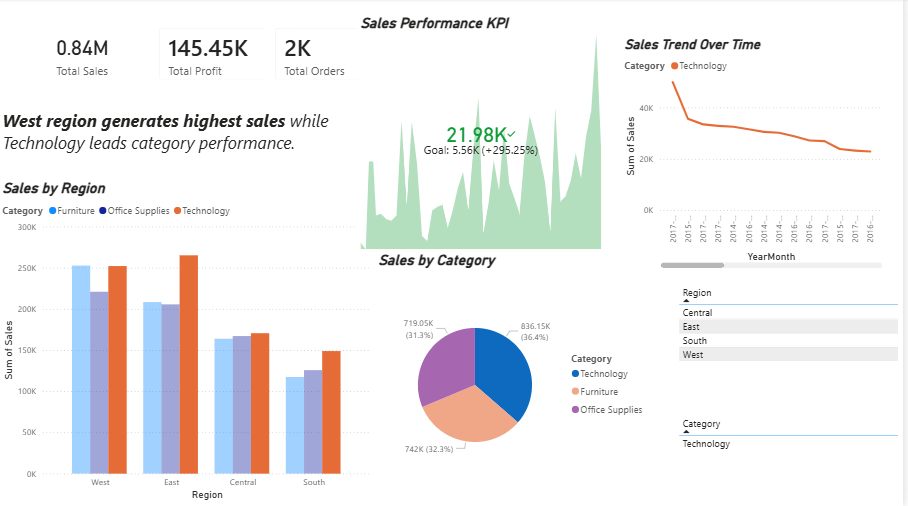

Layout of this report page (visuals, bound fields, positions):
{"tool":"powerbi","page":{"name":"Page 1","canvas":[1280,720],"ordinal":0},"visuals":[{"type":"clusteredColumnChart","title":"Sales by Region","fields":{"Category":["Sample - Superstore.Region"],"Y":["Sum(Sample - Superstore.Sales)"],"Series":["Sample - Superstore.Category"]},"box":[0,257.4,532.7,459.4],"z":0},{"type":"card","fields":{"Values":["Sample - Superstore.Total Sales"]},"box":[14.3,25,207.4,107.3],"z":1000},{"type":"cardVisual","fields":{"Data":["Sample - Superstore.Total Profit"]},"box":[209.2,25,216.3,107.3],"z":2000},{"type":"cardVisual","fields":{"Data":["Sample - Superstore.Total Orders"]},"box":[373.6,25,266.4,107.3],"z":3000},{"type":"pieChart","title":"Sales by Category","fields":{"Category":["Sample - Superstore.Category"],"Y":["Sum(Sample - Superstore.Sales)"]},"box":[532.7,359.3,393.3,354],"z":4000},{"type":"lineChart","title":"Sales Trend Over Time","fields":{"Category":["Sample - Superstore.YearMonth"],"Y":["Sum(Sample - Superstore.Sales)"],"Series":["Sample - Superstore.Category"]},"box":[881.3,53.6,375.4,334.3],"z":5000},{"type":"tableEx","fields":{"Values":["Sample - Superstore.Region"]},"box":[958.2,402.2,321.8,171.6],"z":6000},{"type":"tableEx","fields":{"Values":["Sample - Superstore.Category"]},"box":[958.2,588.2,321.8,132.3],"z":7000},{"type":"kpi","title":"Sales Performance KPI","fields":{"Indicator":["Sum(Sample - Superstore.Sales)"],"TrendLine":["Sample - Superstore.YearMonth"],"Goal":["Sum(Sample - Superstore.Profit)"]},"box":[506.9,24.5,351.4,337],"z":7001},{"type":"textbox","box":[0,152,552.4,80.4],"z":7002}]}

Visuals, with their boxes in screenshot pixels (x1, y1, x2, y2), scaled from the page's 1280x720 canvas onto the 908x506 screenshot:
"Sales by Region" clusteredColumnChart: [x1=0, y1=181, x2=378, y2=504]
card - Sample - Superstore.Total Sales: [x1=10, y1=18, x2=157, y2=93]
cardVisual - Sample - Superstore.Total Profit: [x1=148, y1=18, x2=302, y2=93]
cardVisual - Sample - Superstore.Total Orders: [x1=265, y1=18, x2=454, y2=93]
"Sales by Category" pieChart: [x1=378, y1=253, x2=657, y2=501]
"Sales Trend Over Time" lineChart: [x1=625, y1=38, x2=891, y2=273]
tableEx - Sample - Superstore.Region: [x1=680, y1=283, x2=907, y2=403]
tableEx - Sample - Superstore.Category: [x1=680, y1=413, x2=907, y2=505]
"Sales Performance KPI" kpi: [x1=360, y1=17, x2=609, y2=254]
textbox: [x1=0, y1=107, x2=392, y2=163]
